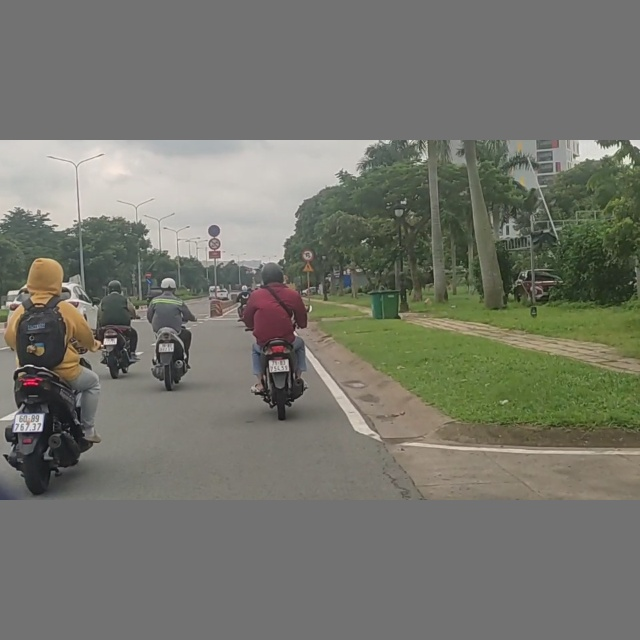P.102: (145, 272, 153, 278)
P.111: (209, 238, 221, 249)
P.124a*: (301, 249, 314, 261)
P.130: (208, 225, 221, 237)
R.302a: (145, 278, 152, 284)
W.224: (301, 260, 315, 272)
